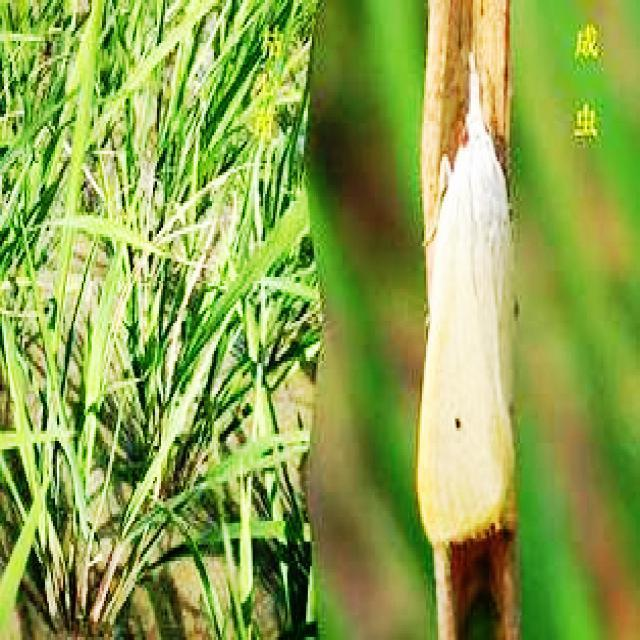stem-borer: (417, 44, 523, 558)
